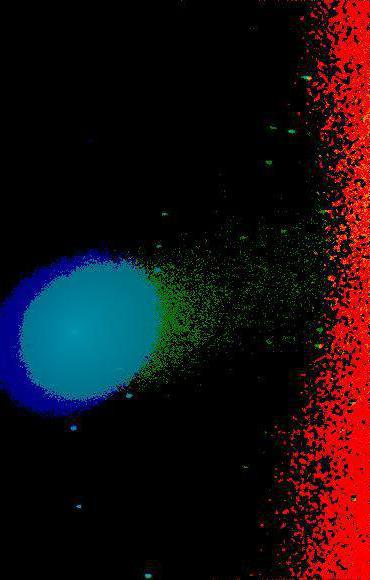star: (311, 387, 341, 417)
